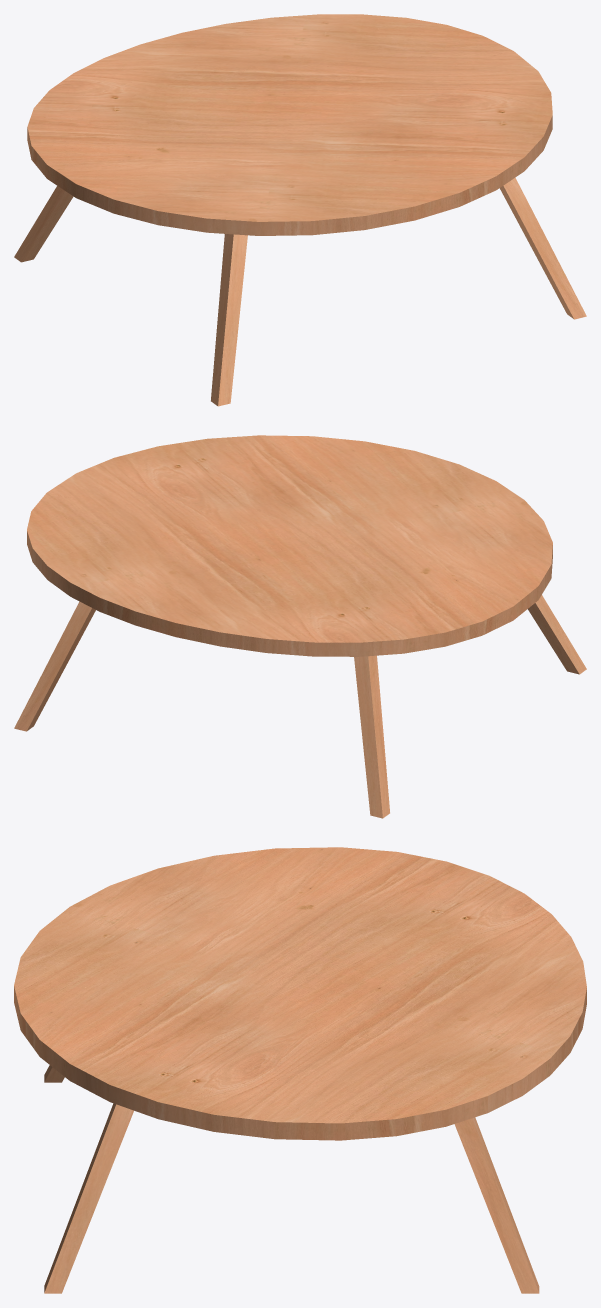
File: FUR0210029.fbx
The picture shows the model from 3 angles, top to bottom: view 1: azimuth 30°, elevation 25°; view 2: azimuth 150°, elevation 25°; view 3: azimuth 270°, elevation 25°; orthographic projection. The views are drawn at different scales.
Visible parts, largest first — view 1: smFUR0210029; view 2: smFUR0210029; view 3: smFUR0210029.
Boxes of the visible parts, <box> form: smFUR0210029: <box>14,14,586,406</box>; smFUR0210029: <box>14,435,586,818</box>; smFUR0210029: <box>14,847,586,1293</box>.
Size of the model in its own units: 157 by 52.71 by 137.
1 material, 1 textured.
